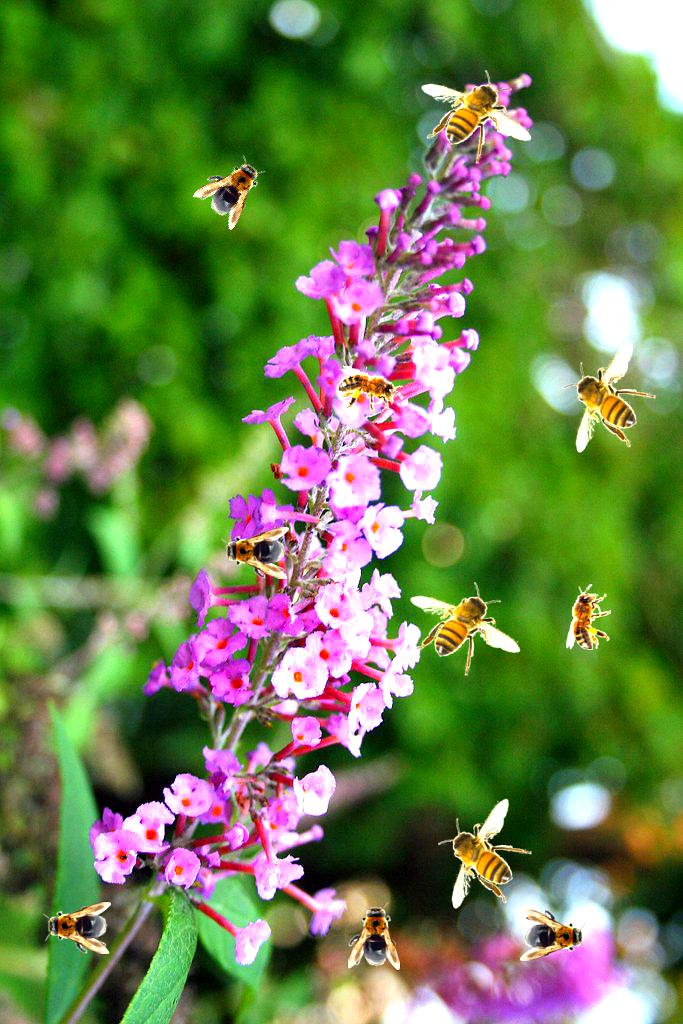Bee: (438, 798, 532, 909), (421, 70, 532, 164), (562, 342, 656, 453), (410, 582, 521, 676), (191, 145, 275, 231), (335, 365, 407, 418), (520, 909, 588, 961), (221, 527, 289, 579), (348, 902, 400, 970), (43, 902, 111, 954), (566, 584, 611, 650)
